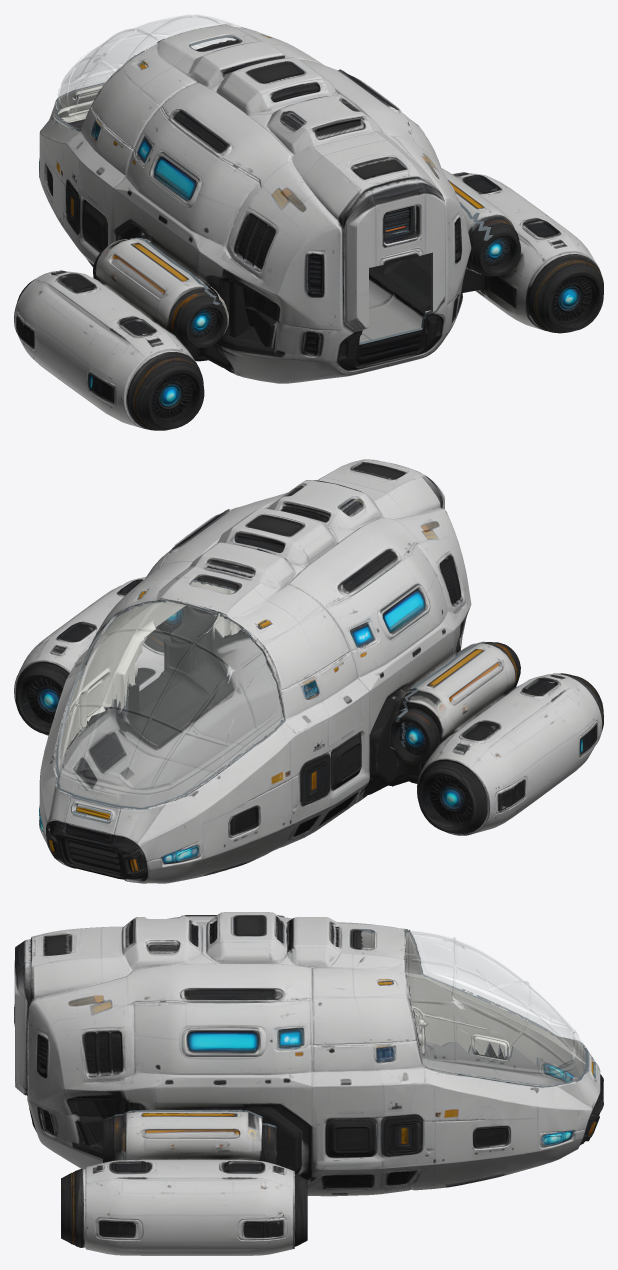
Rendered from hull.glb.
The picture shows the model from 3 angles, top to bottom: view 1: azimuth 30°, elevation 25°; view 2: azimuth 150°, elevation 25°; view 3: azimuth 270°, elevation 25°; orthographic projection. The views are drawn at different scales.
Visible parts, largest first — view 1: Exterior_Hull_90_0, Canopy_Glass_91_0, Glazing_20mm_2, Cabin_60mm; view 2: Exterior_Hull_90_0, Canopy_Glass_91_0, Cabin_60mm; view 3: Exterior_Hull_90_0, Canopy_Glass_91_0, Cabin_60mm, Glazing_20mm_2, Glazing_20mm_0.
Boxes of the visible parts, x1,y1,x2,y2 form: Exterior_Hull_90_0: [14, 24, 603, 430]; Canopy_Glass_91_0: [56, 14, 251, 118]; Glazing_20mm_2: [58, 15, 238, 117]; Cabin_60mm: [52, 27, 492, 344]; Exterior_Hull_90_0: [14, 459, 603, 883]; Canopy_Glass_91_0: [51, 580, 266, 822]; Cabin_60mm: [48, 518, 492, 850]; Exterior_Hull_90_0: [14, 912, 603, 1255]; Canopy_Glass_91_0: [361, 929, 596, 1091]; Cabin_60mm: [104, 922, 596, 1155]; Glazing_20mm_2: [361, 932, 596, 1077]; Glazing_20mm_0: [415, 939, 501, 1006].
Bounding box in the file's own units: 14.46 × 6.95 × 16.
Materials: 16 (2 with a texture image).
